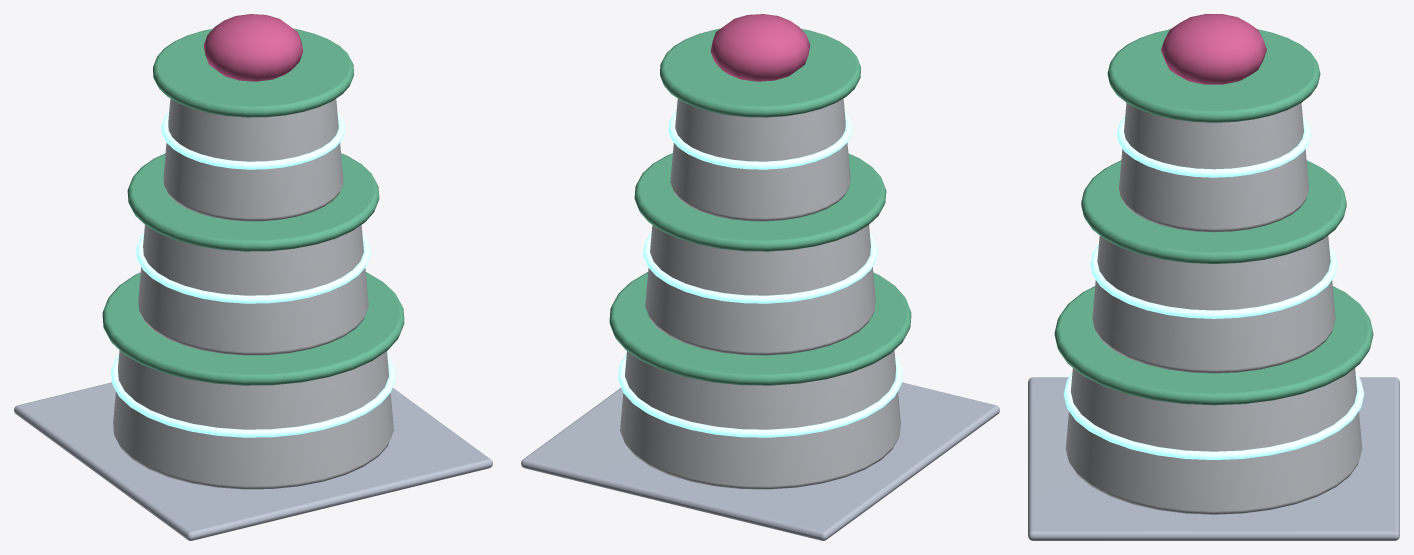
3 views of the same model, side by side, from view 1: azimuth 30°, elevation 25°; view 2: azimuth 150°, elevation 25°; view 3: azimuth 270°, elevation 25° (orthographic). The views are drawn at different scales.
Parts seen in each view (by area): view 1: Cube; view 2: Cube; view 3: Cube.
Part boxes in pixels (x1,y1,x2,y2): Cube: [14, 14, 492, 540]; Cube: [521, 14, 999, 540]; Cube: [1028, 14, 1399, 540].
Bounding box in the file's own units: 0.7 × 0.92 × 0.7.
